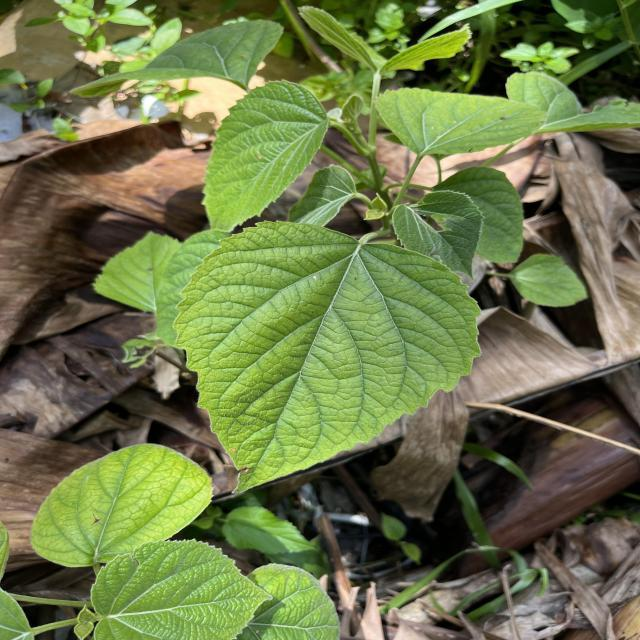Clerodendrum infortunatum: (171, 218, 483, 498), (29, 440, 215, 570), (196, 78, 332, 234), (90, 537, 275, 640), (373, 85, 549, 158), (390, 188, 484, 282)
